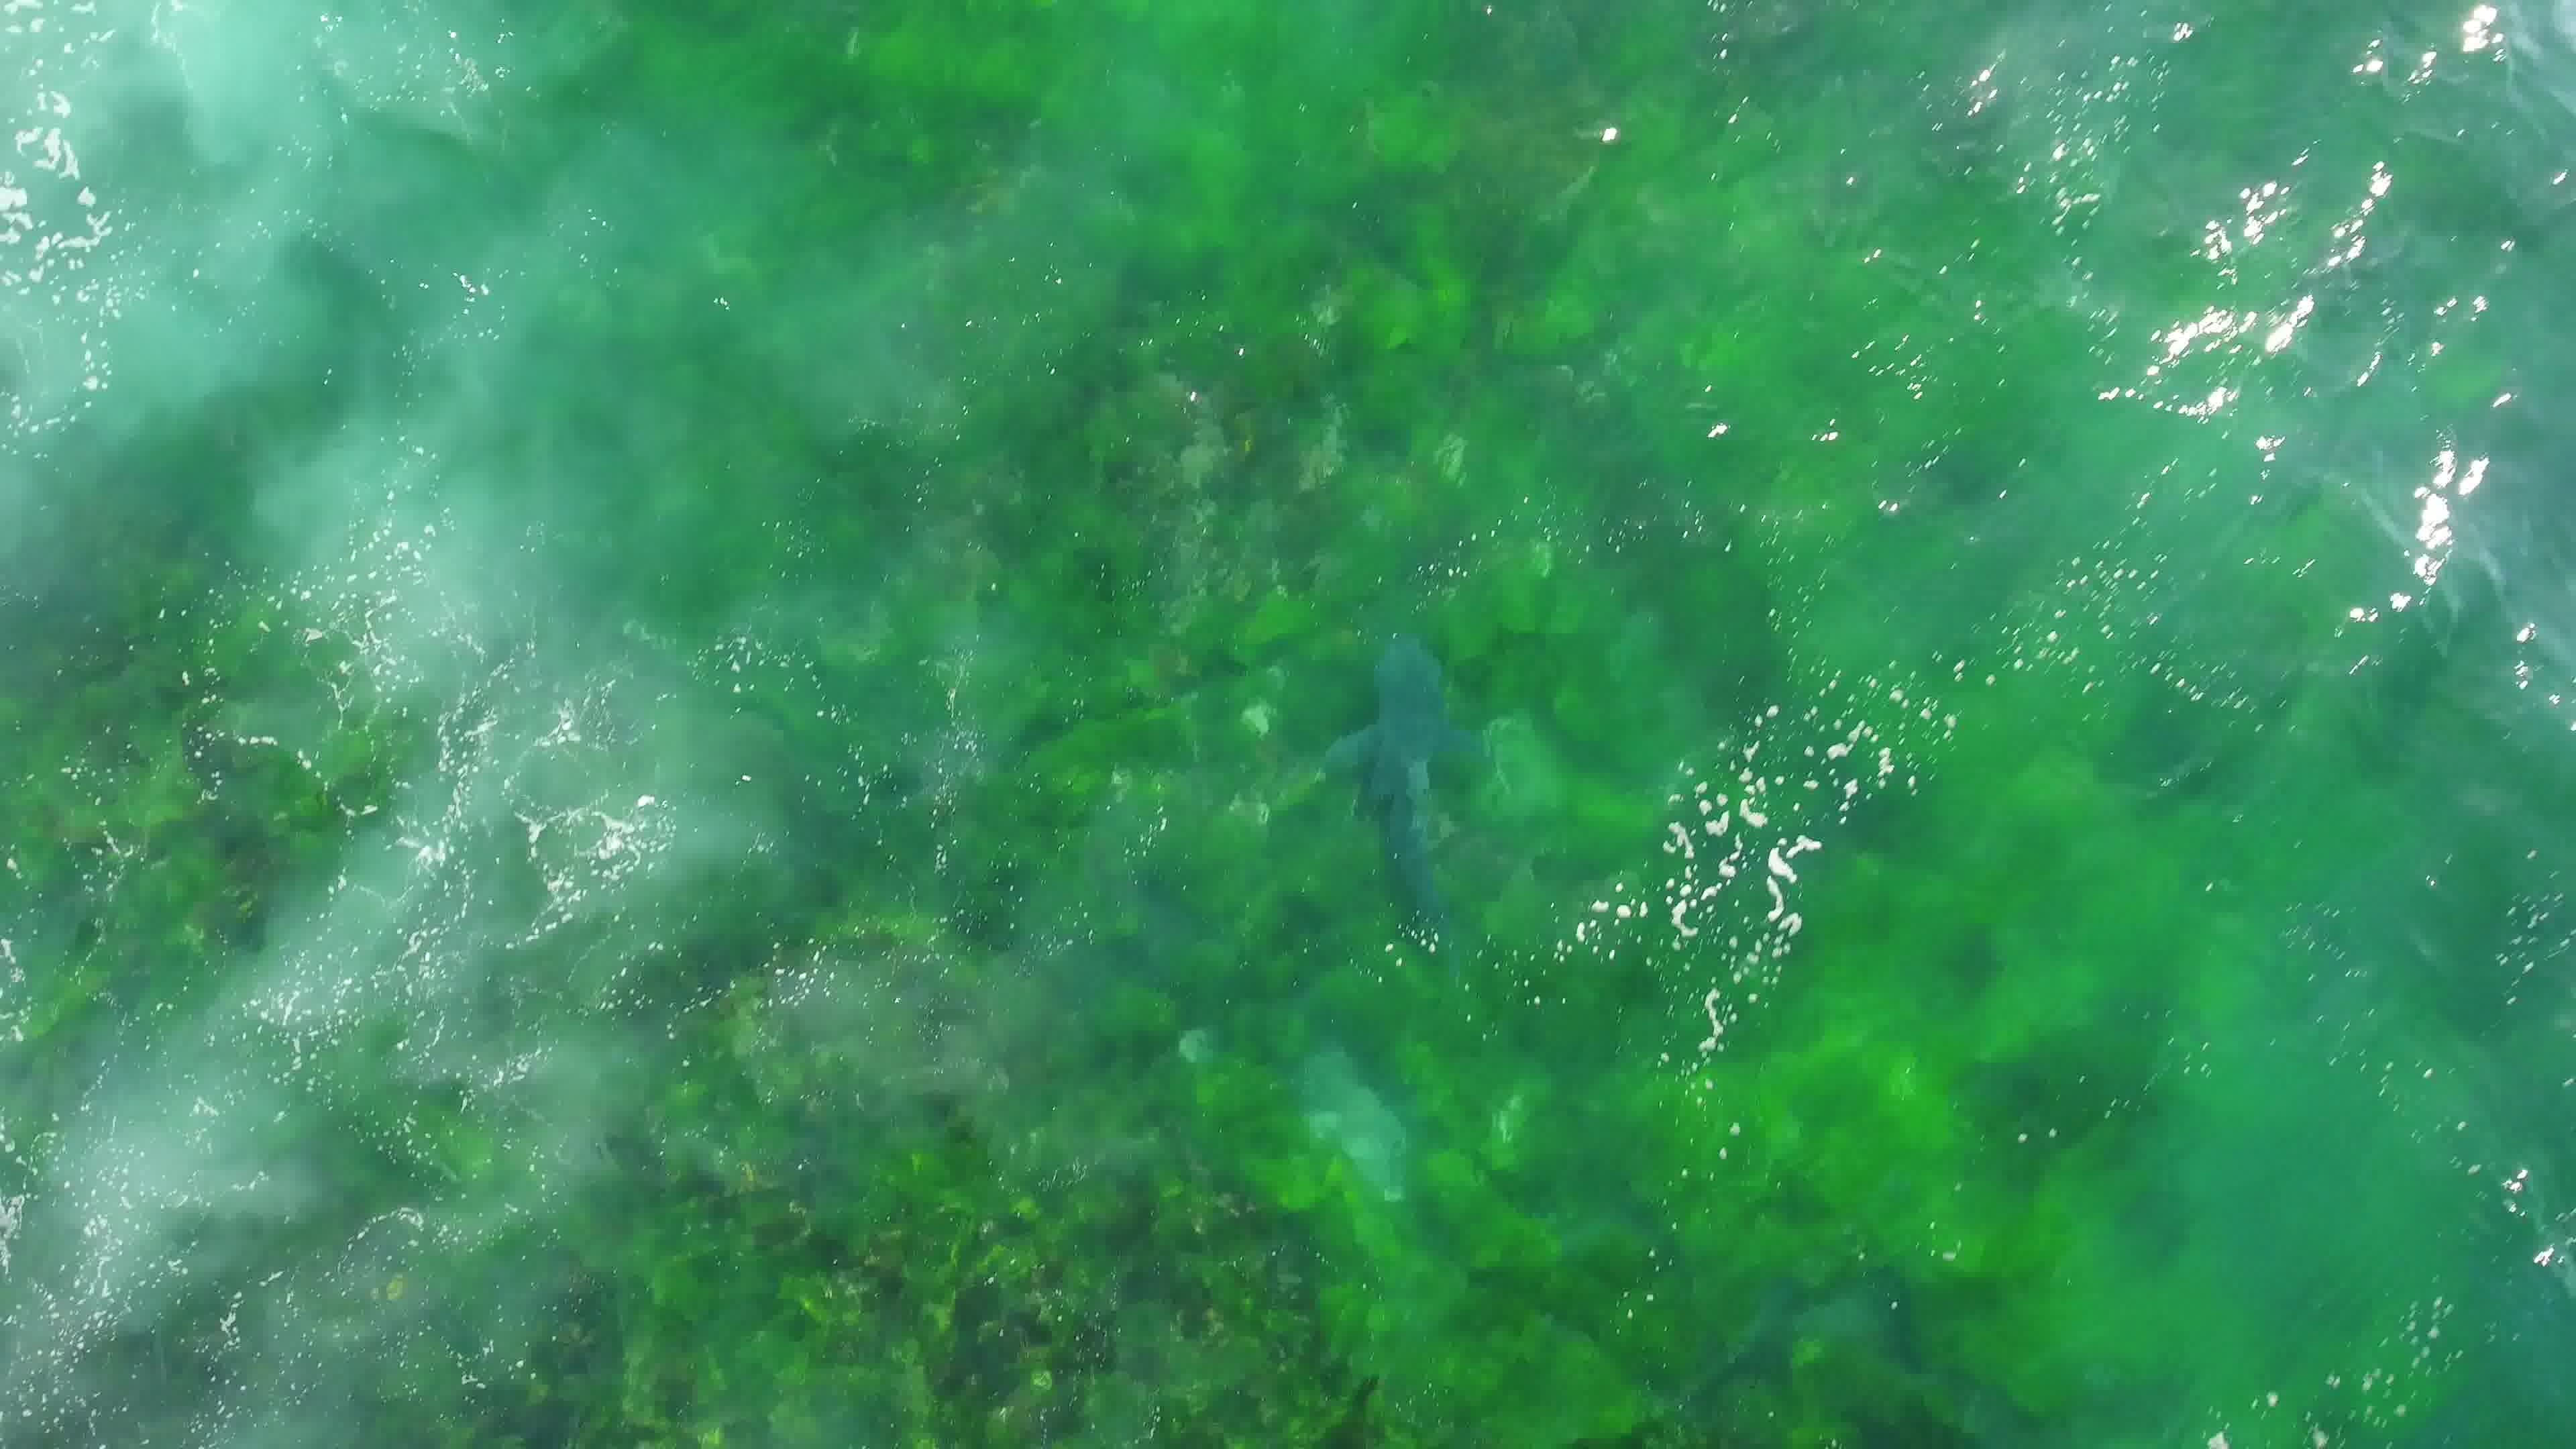shark: (1320, 630, 1497, 957)
